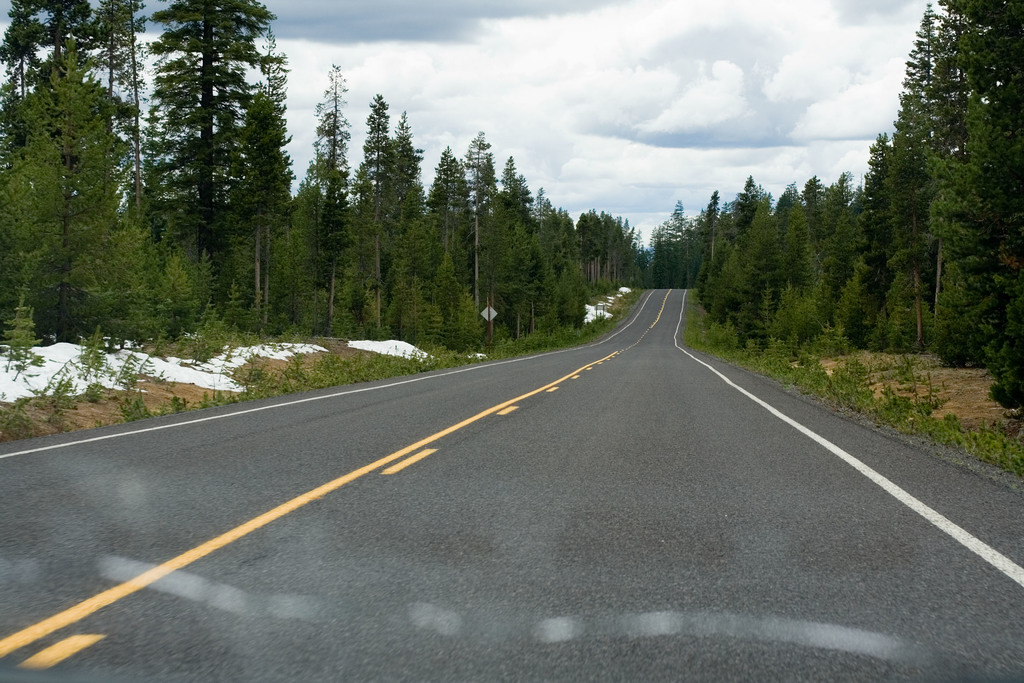Tree: (0, 0, 1024, 412)
